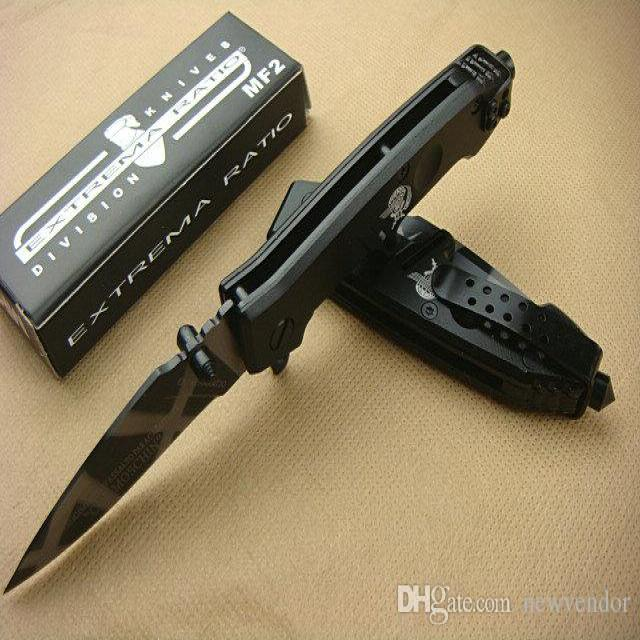knife: (12, 29, 525, 604)
